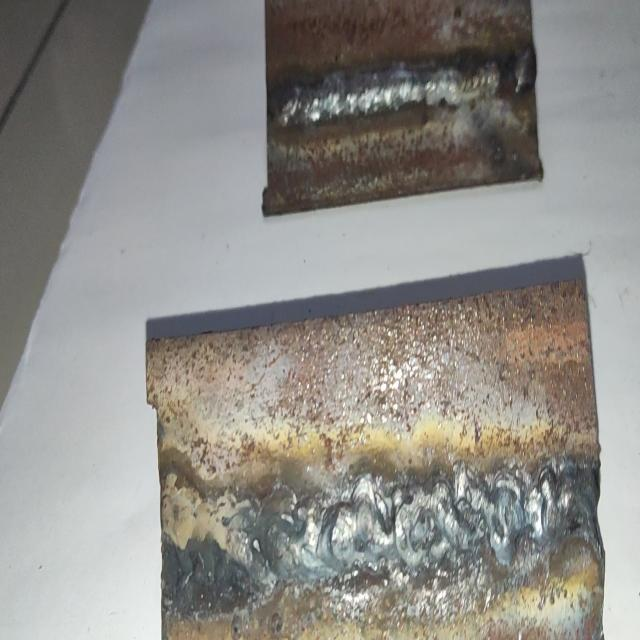Bad Weld: (273, 46, 536, 126)
Defect: (492, 48, 528, 110)
Good Weld: (273, 464, 594, 578)
